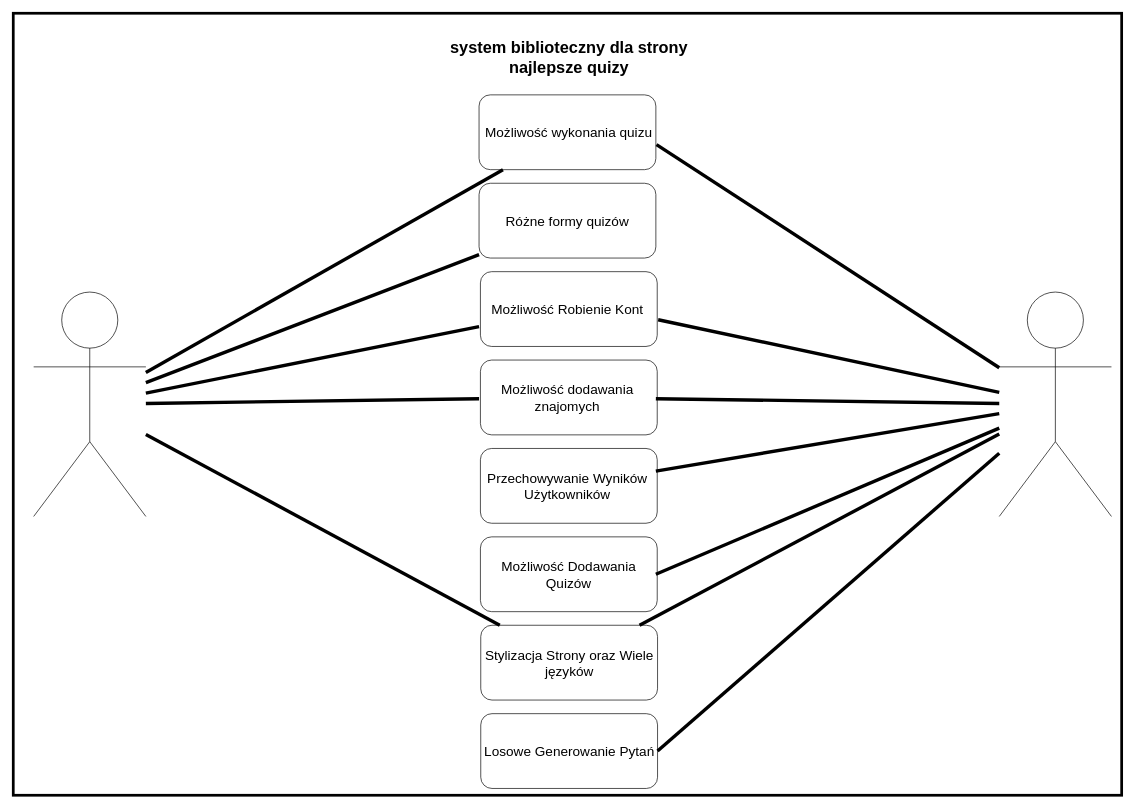
This 1134x808 diagram has some shape labels left out. Each missing label, with the box of its shape:
Serwer: (999, 291, 1111, 516)
użytkownik: (33, 291, 146, 516)
